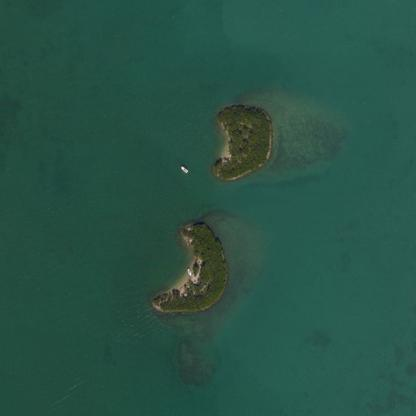ship: (20, 267, 25, 275), (0, 0, 4, 7)
